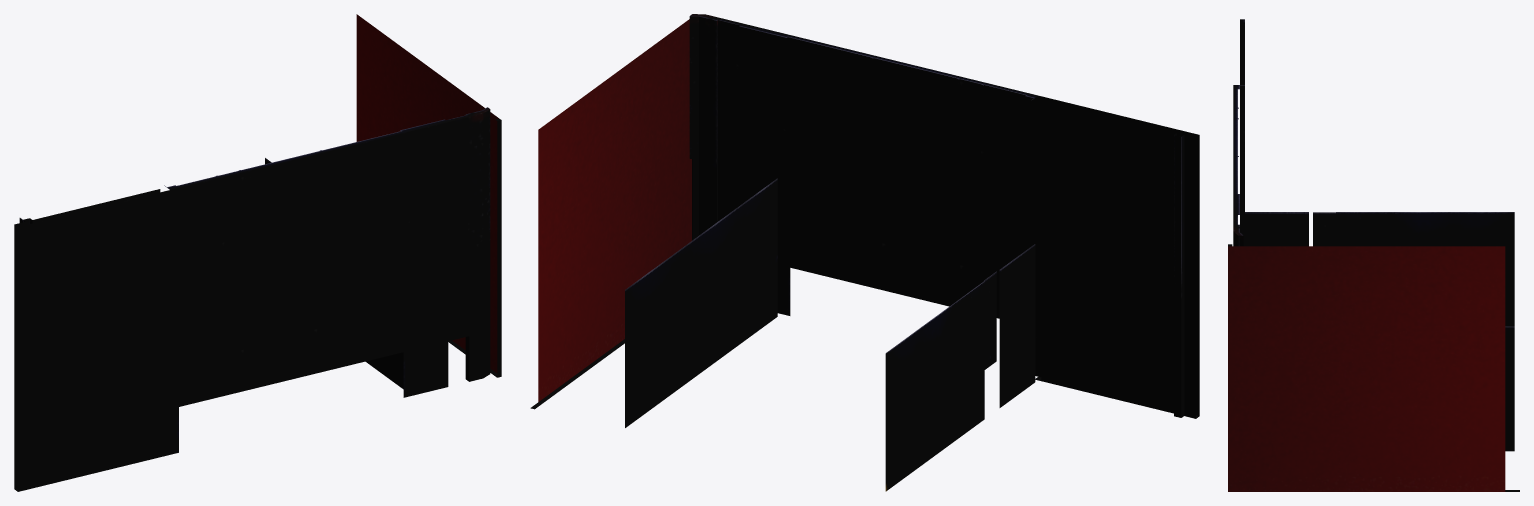
Rendered from ey_verse_outer_walls.glb.
3 renders of one model, left to right at view 1: azimuth 30°, elevation 25°; view 2: azimuth 150°, elevation 25°; view 3: azimuth 270°, elevation 25°, orthographic. The views are drawn at different scales.
Visible parts, largest first — view 1: ey_verse_outer_walls; view 2: ey_verse_outer_walls; view 3: ey_verse_outer_walls.
Boxes of the visible parts, x1=… form: ey_verse_outer_walls: x1=14, y1=14, x2=501, y2=491; ey_verse_outer_walls: x1=530, y1=14, x2=1199, y2=491; ey_verse_outer_walls: x1=1228, y1=19, x2=1519, y2=491.
Bounding box in the file's own units: 23.38 × 12.31 × 12.85.
1 material, 1 textured.
